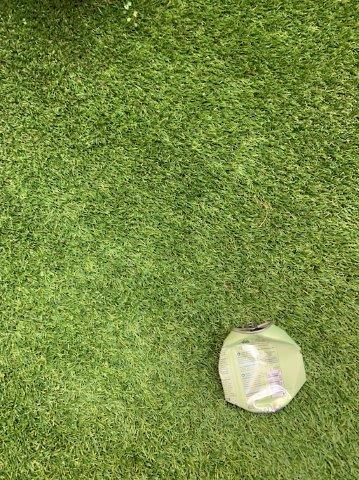kaleng: (217, 321, 307, 413)
